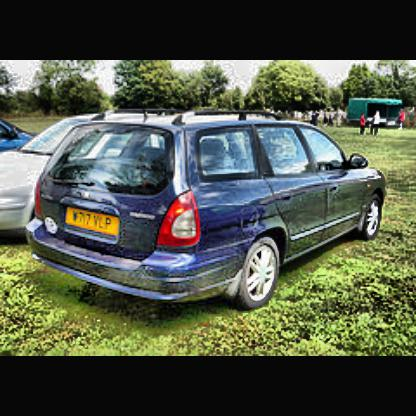Daewoo Nubira Wagon 2002: (26, 109, 391, 320)
